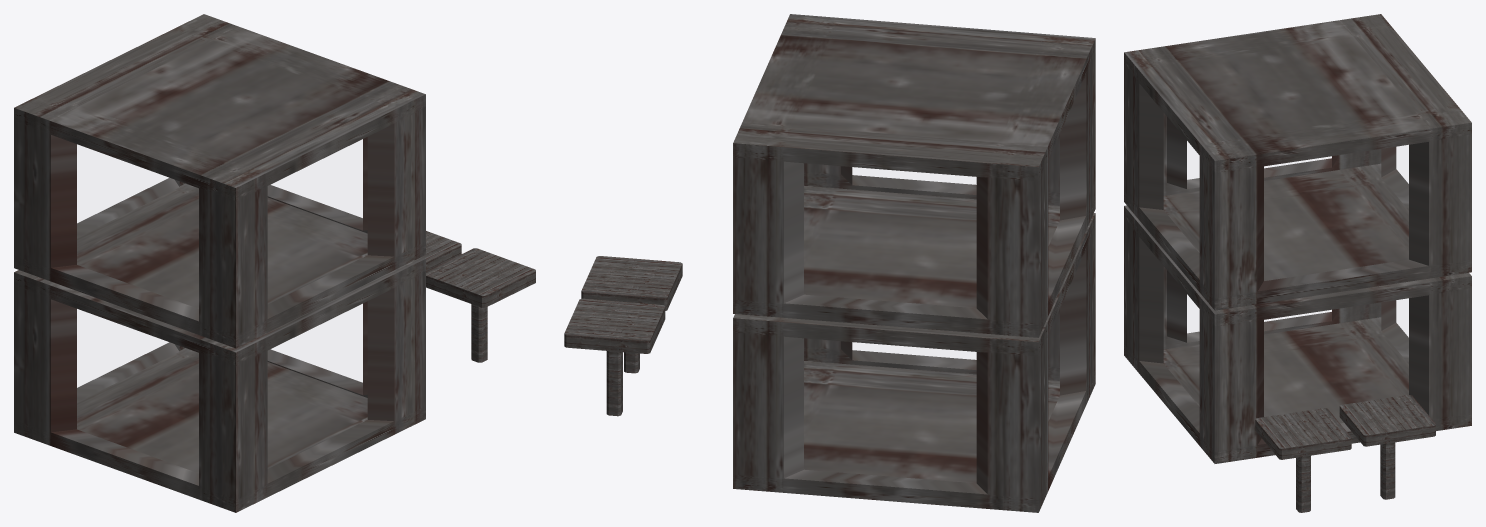
File: building.glb
The picture shows the model from 3 angles, left to right: view 1: azimuth 30°, elevation 25°; view 2: azimuth 150°, elevation 25°; view 3: azimuth 270°, elevation 25°; orthographic projection. The views are drawn at different scales.
Visible parts, largest first — view 1: Cube.001, Cube, Cube.002, Cube.003; view 2: Cube.001, Cube, Cube.003, Cube.002; view 3: Cube.001, Cube, Cube.003, Cube.002.
Part boxes in pixels (x1,y1,x2,y2): Cube.001: (14,14,425,348); Cube: (14,257,425,512); Cube.002: (426,248,535,362); Cube.003: (421,231,461,271); Cube.001: (733,14,1095,337); Cube: (733,213,1095,512); Cube.003: (564,298,665,416); Cube.002: (581,256,682,373); Cube.001: (1124,14,1471,310); Cube: (1124,205,1471,463); Cube.003: (1339,395,1435,499); Cube.002: (1255,408,1351,512).
Size of the model in its own units: 8.04 by 5.33 by 5.54.
Materials: 2 (1 with a texture image).
